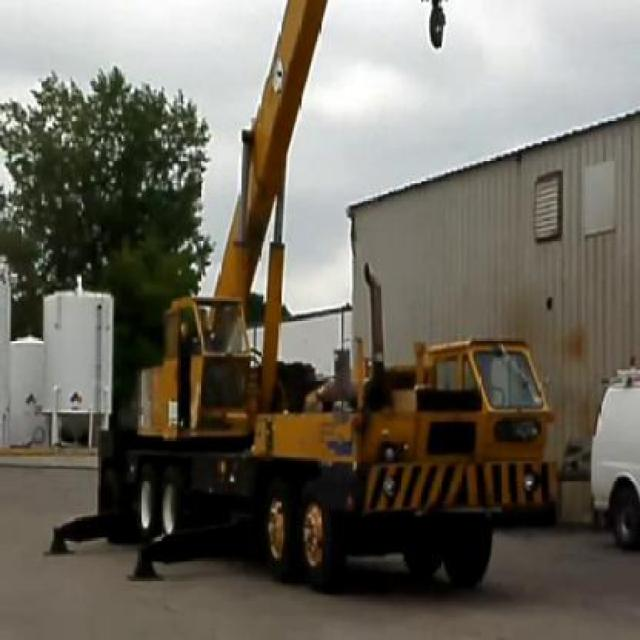Mobile Crane: (39, 0, 562, 588)
